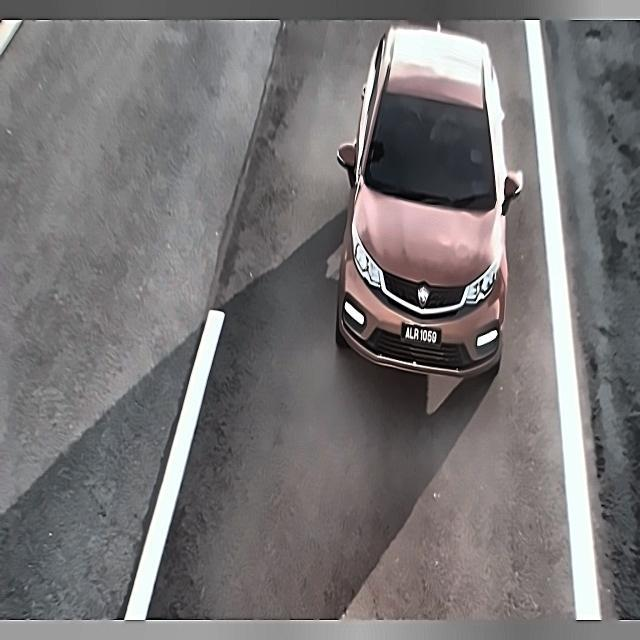car: (398, 318, 448, 349)
